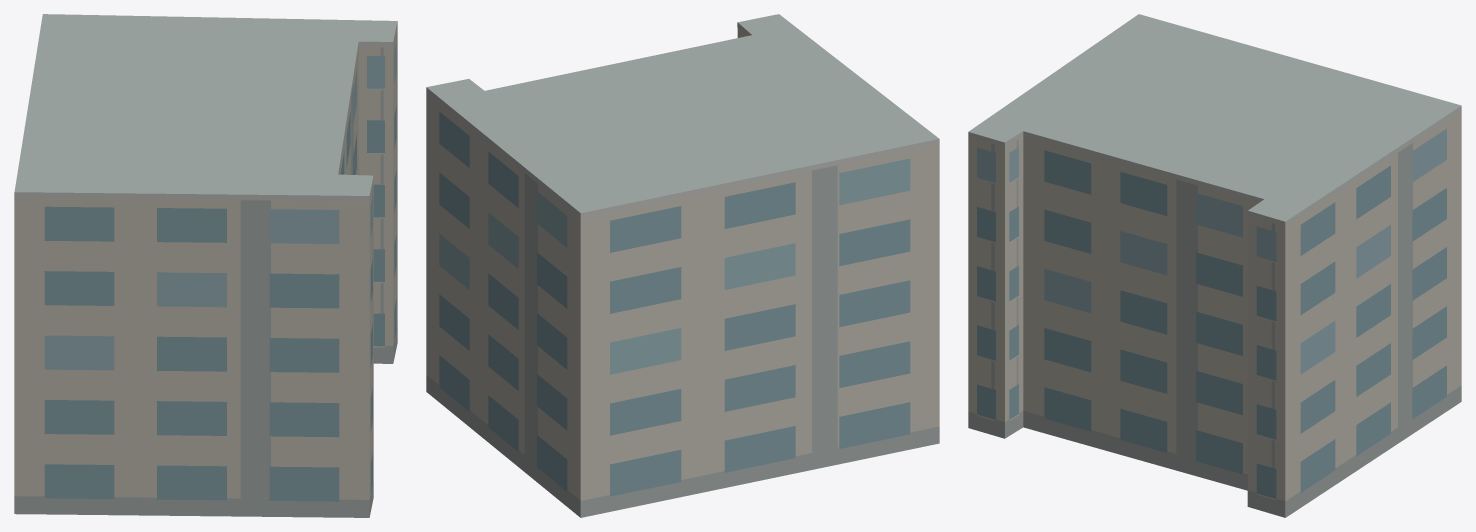
File: survey-upis-32776671.glb
3 views of the same model, side by side, from view 1: azimuth 30°, elevation 25°; view 2: azimuth 150°, elevation 25°; view 3: azimuth 270°, elevation 25° (orthographic). The views are drawn at different scales.
Visible parts, largest first — view 1: survey-upis-32776671.tmp; view 2: survey-upis-32776671.tmp; view 3: survey-upis-32776671.tmp.
Part boxes in pixels (x1=…): survey-upis-32776671.tmp: x1=14, y1=14, x2=397, y2=517; survey-upis-32776671.tmp: x1=426, y1=14, x2=939, y2=517; survey-upis-32776671.tmp: x1=968, y1=14, x2=1461, y2=517.
Size of the model in its own units: 21.14 by 14.05 by 21.22.
